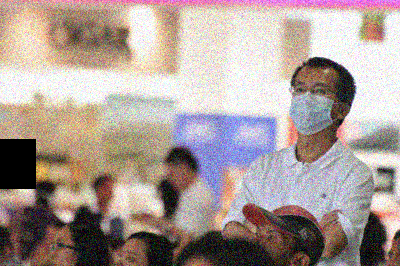with_mask: (290, 80, 341, 135)
without_mask: (48, 237, 79, 266), (117, 248, 147, 266)
